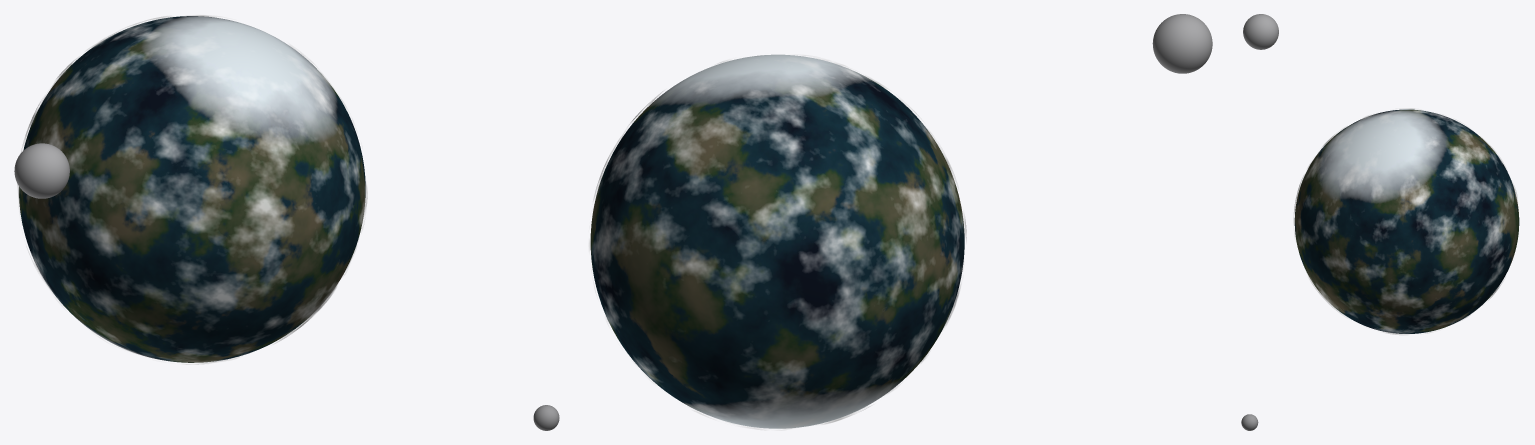
File: tasa-scene.glb
3 renders of one model, left to right at view 1: azimuth 30°, elevation 25°; view 2: azimuth 150°, elevation 25°; view 3: azimuth 270°, elevation 25°, orthographic. The views are drawn at different scales.
Parts seen in each view (by area): view 1: TASA_Planet, TASA_Clouds, TASA_Moon, TASA_Moon_Small; view 2: TASA_Planet, TASA_Clouds, TASA_Moon; view 3: TASA_Planet, TASA_Clouds, TASA_Moon.
Part boxes in pixels (x1,y1,x2,y2): TASA_Planet: (19,16,365,362); TASA_Clouds: (17,15,367,364); TASA_Moon: (14,143,69,198); TASA_Moon_Small: (533,405,559,430); TASA_Planet: (590,54,964,428); TASA_Clouds: (589,55,966,430); TASA_Moon: (1152,14,1212,73); TASA_Planet: (1294,109,1519,333); TASA_Clouds: (1293,108,1517,335); TASA_Moon: (1243,14,1278,49).
Size of the model in its own units: 3.53 by 2.53 by 2.49.
4 materials, 2 textured.
